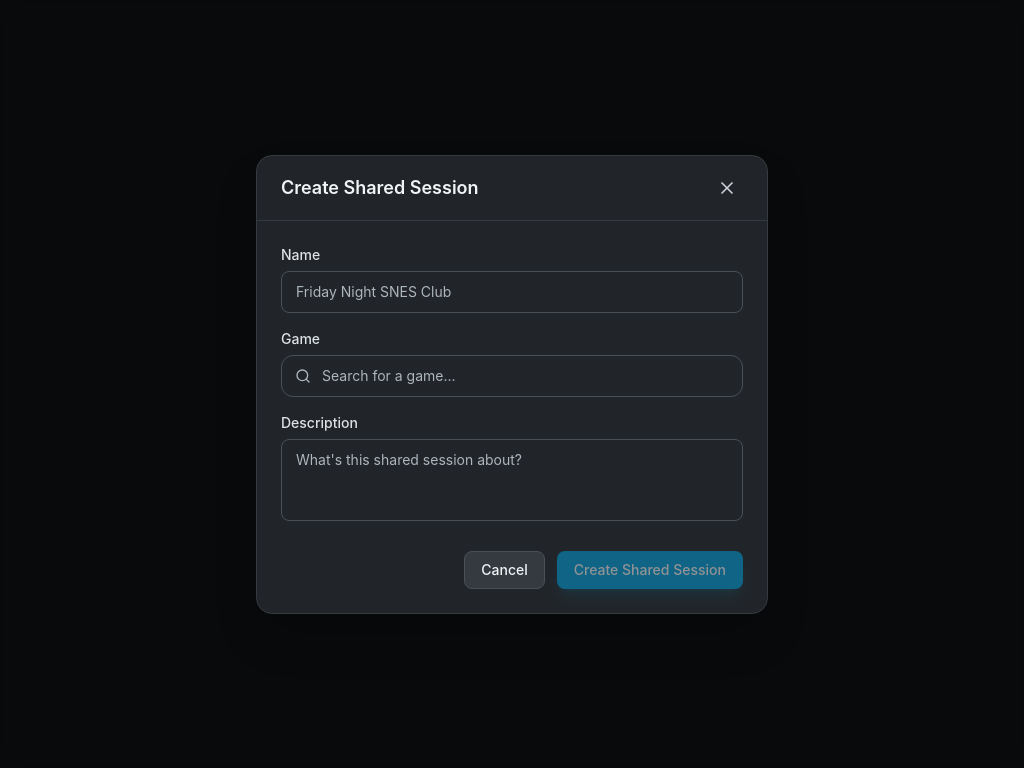
Test case: SharedSessionCreateModal › shows game search results when typing
The image size is (1024, 768).
In the search field with placeholder "Search for a game...": coordinates (512, 376) [281,354,743,396], type "Mario"
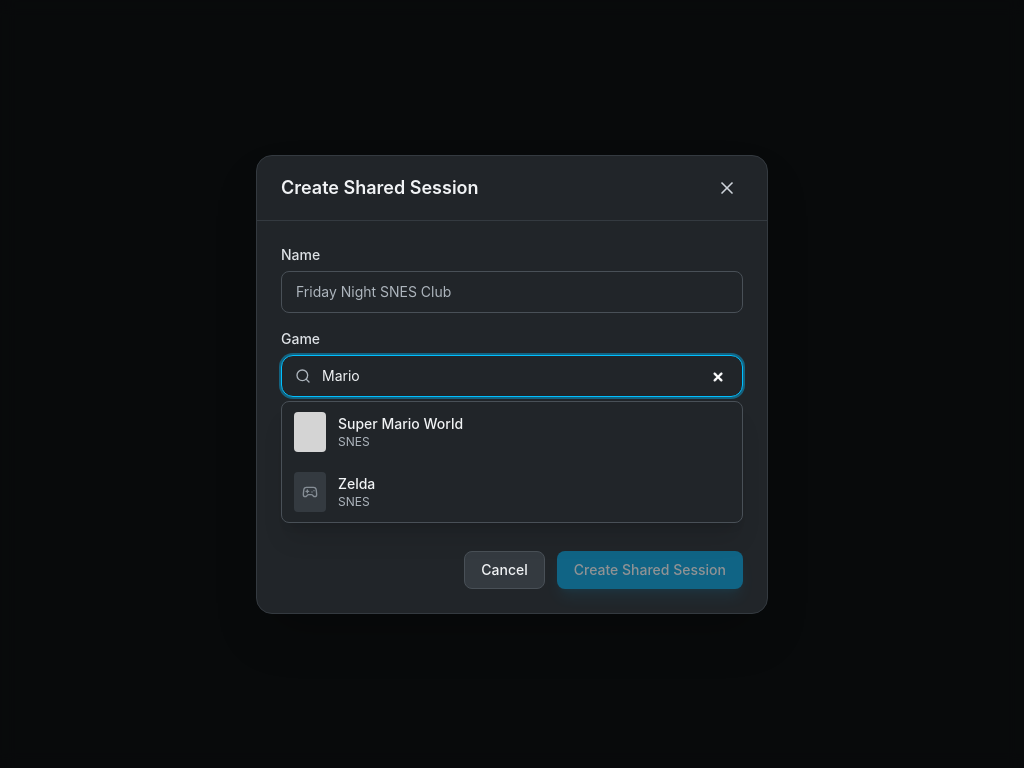
expect the text "Super Mario World" is shown: met, box [338,414,463,434]
expect the text "Zelda" is shown: met, box [338,474,375,494]
